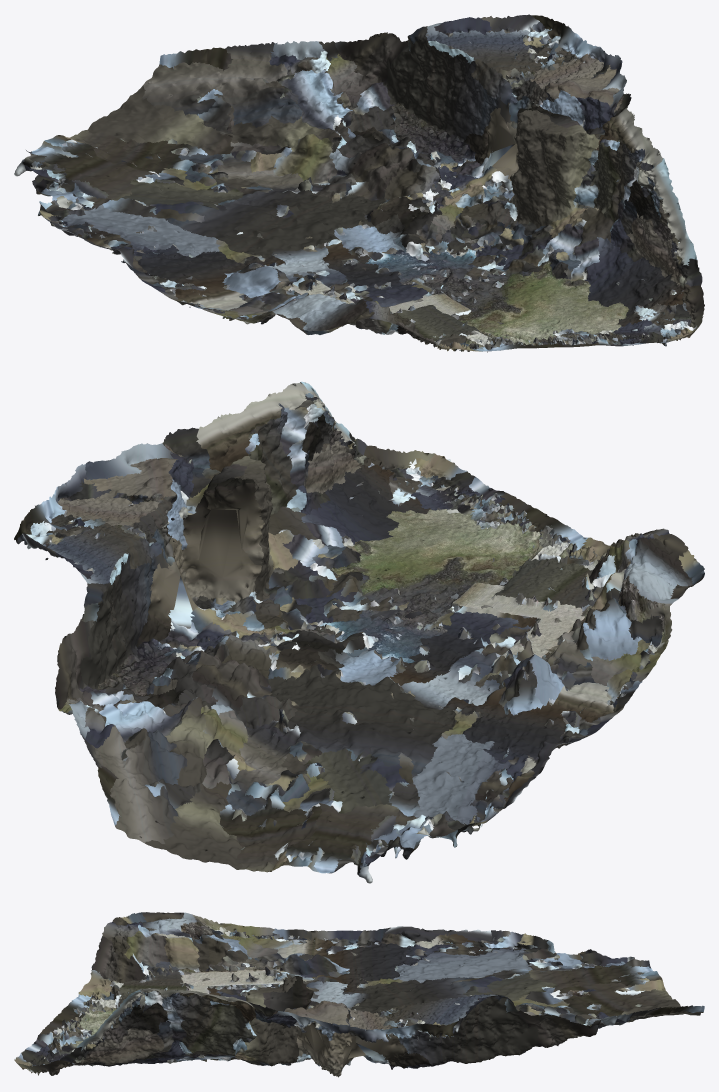
Rendered from waterfall.glb.
The picture shows the model from 3 angles, top to bottom: view 1: azimuth 30°, elevation 25°; view 2: azimuth 150°, elevation 25°; view 3: azimuth 270°, elevation 25°; orthographic projection. The views are drawn at different scales.
Parts seen in each view (by area): view 1: waterfall; view 2: waterfall; view 3: waterfall.
Part boxes in pixels (bbox=[...]): waterfall: bbox=[14, 14, 704, 352]; waterfall: bbox=[14, 381, 704, 883]; waterfall: bbox=[14, 912, 704, 1077].
Size of the model in its own units: 19.89 by 5.9 by 29.55.
10 materials, 10 textured.
